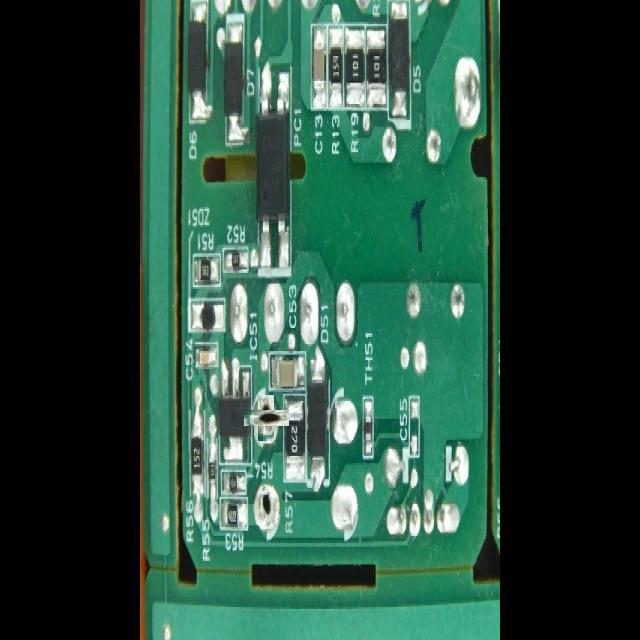damged: (250, 402, 282, 433), (260, 484, 274, 528)
